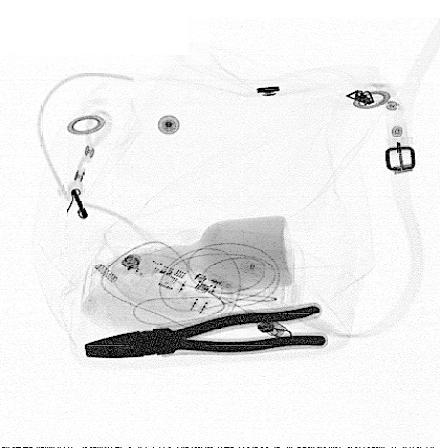Pliers: (83, 302, 331, 359)
